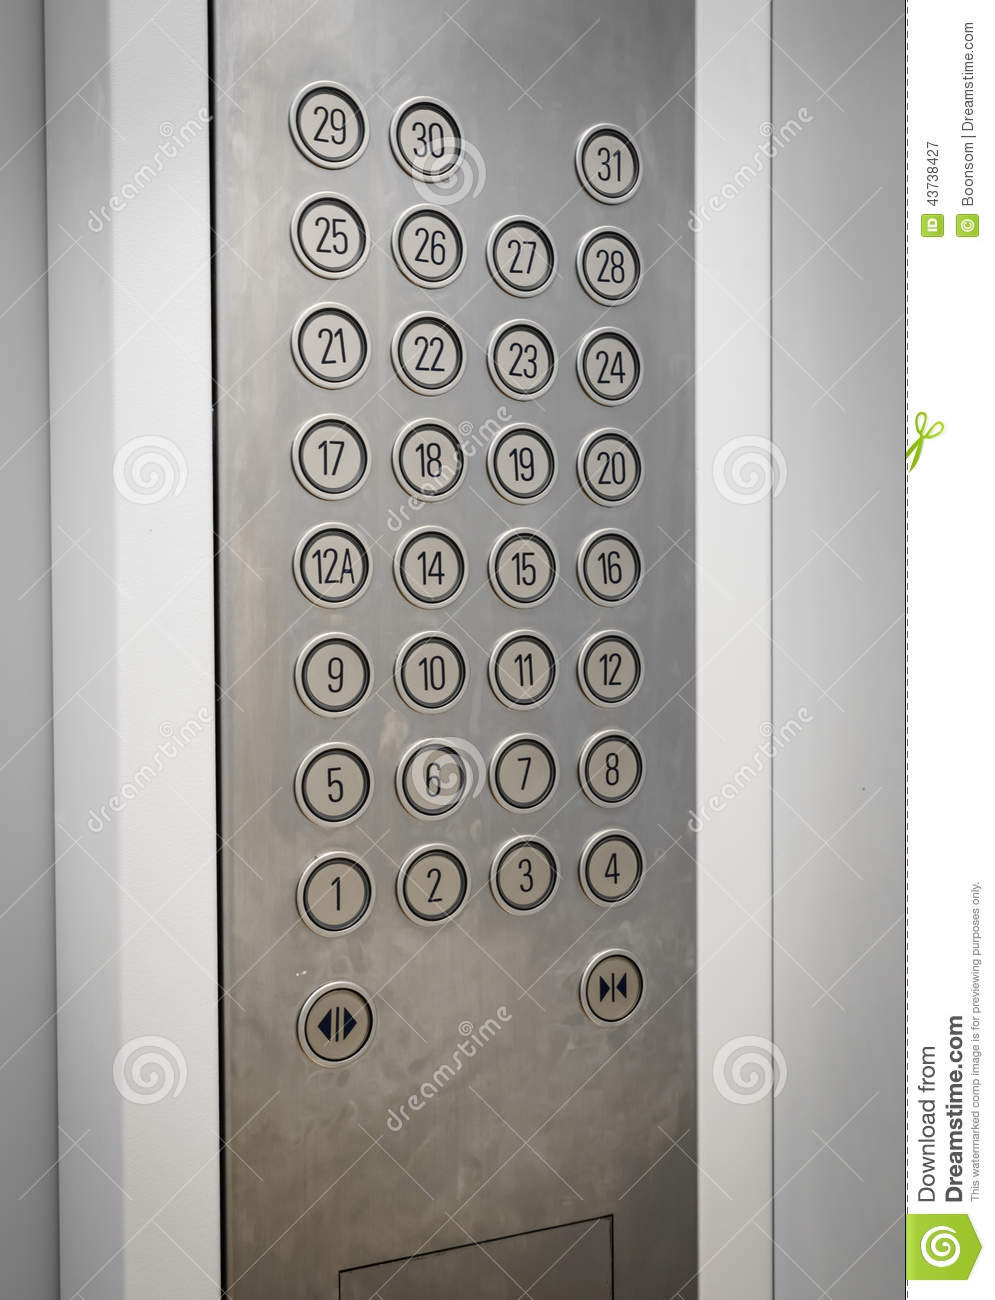button: (283, 76, 373, 175), (288, 296, 375, 397), (287, 188, 377, 284), (288, 738, 379, 832), (290, 516, 377, 611), (293, 846, 380, 941), (291, 627, 377, 722), (294, 977, 380, 1071), (288, 408, 375, 501), (388, 519, 473, 613), (387, 307, 471, 401), (387, 199, 471, 293), (390, 624, 473, 719), (483, 208, 564, 303), (388, 413, 471, 504), (387, 92, 469, 184), (484, 625, 565, 718), (485, 523, 566, 614), (482, 730, 566, 818), (393, 839, 475, 930), (394, 733, 473, 825), (484, 832, 565, 919), (574, 421, 651, 511), (572, 219, 649, 309), (571, 119, 648, 209), (573, 722, 649, 813), (482, 419, 562, 505), (483, 316, 561, 403), (571, 625, 649, 711), (574, 524, 648, 611), (573, 322, 646, 411), (577, 825, 649, 910), (579, 946, 649, 1030)
